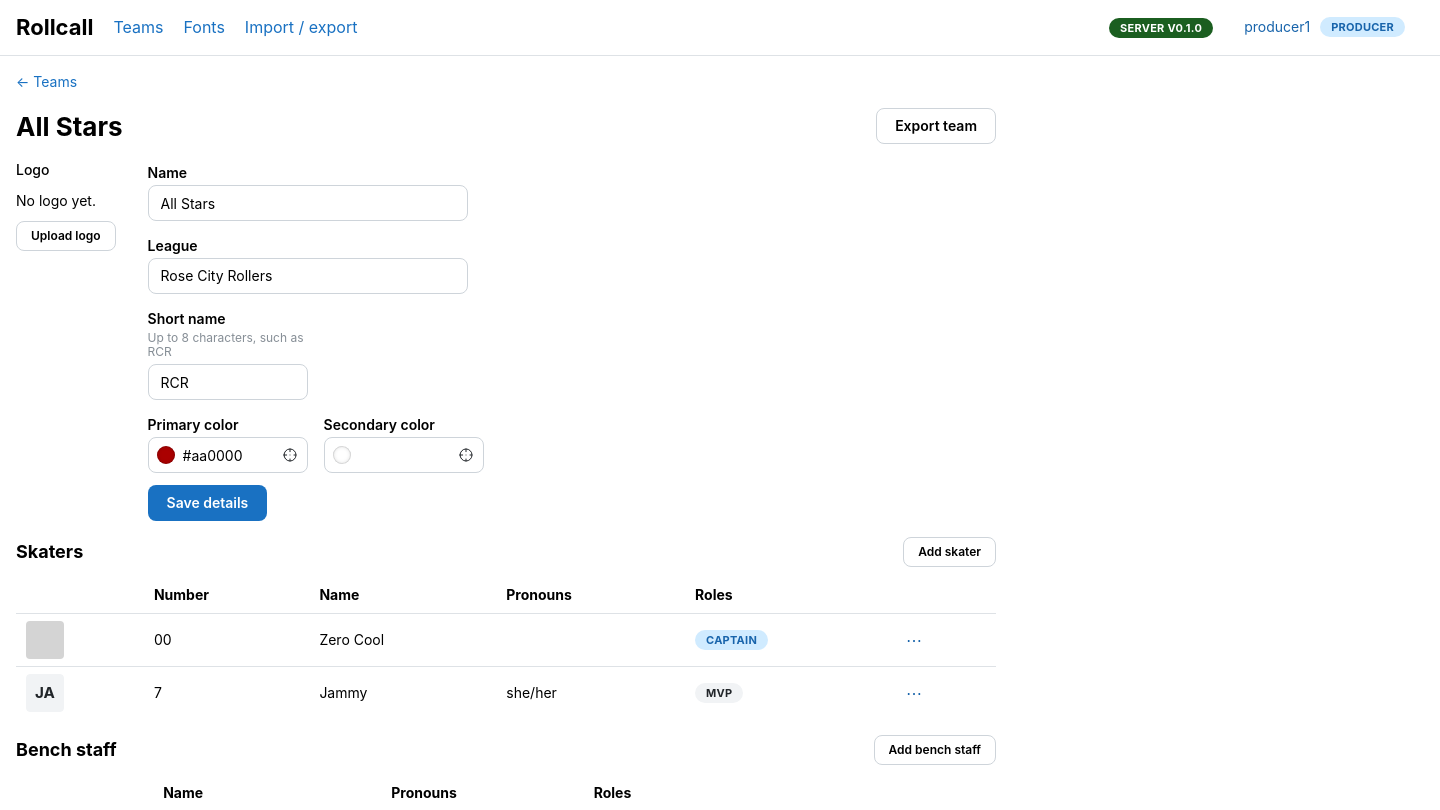
Test case: the Team page › asks for a skater’s number before sending anything
Expected: the heading "All Stars" is shown, x1=16 y1=109 x2=123 y2=144
Click the button "Add skater" at (950, 552), box x1=903 y1=537 x2=996 y2=567
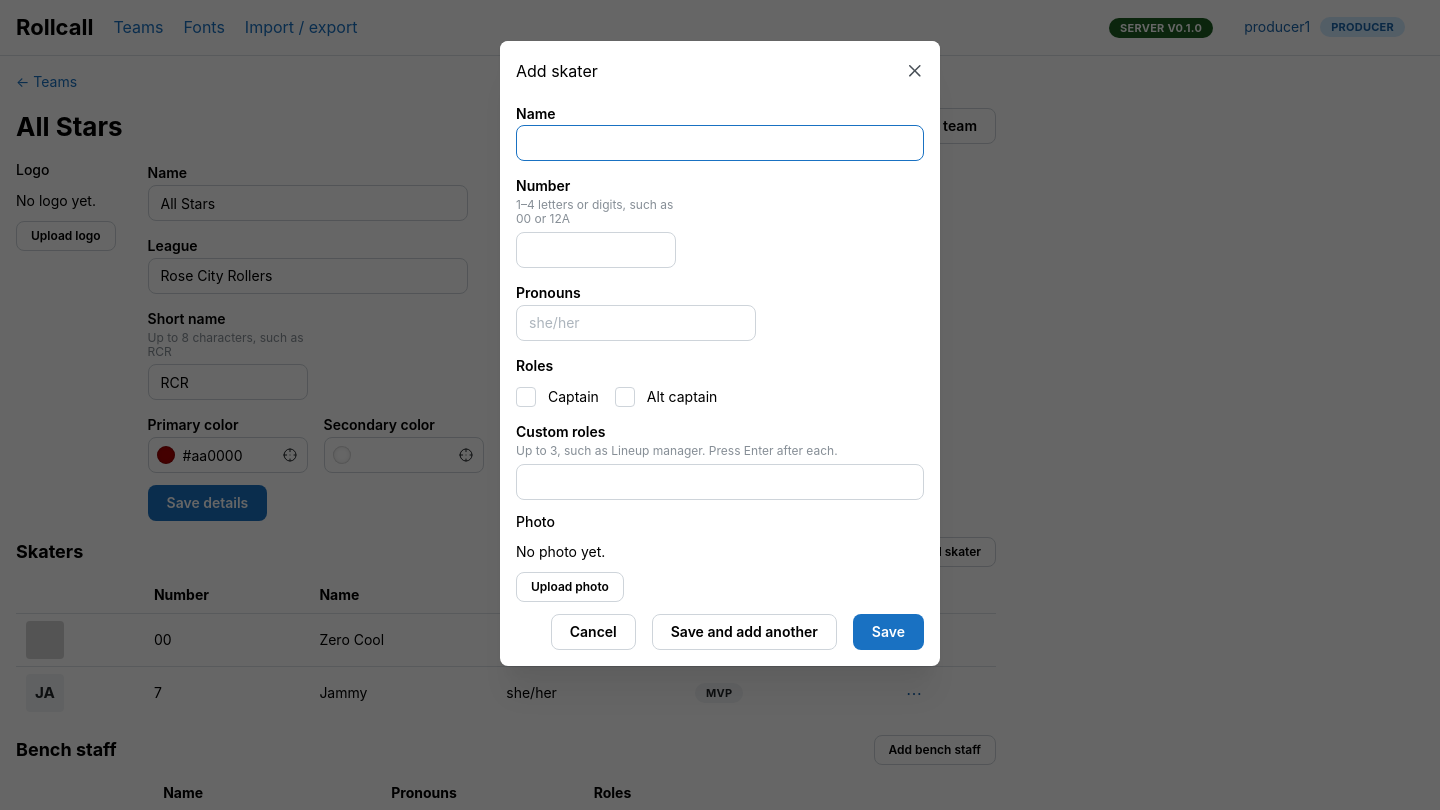
Type "Blocky" into the field labelled "Name" at (720, 143), box x1=516 y1=125 x2=924 y2=161
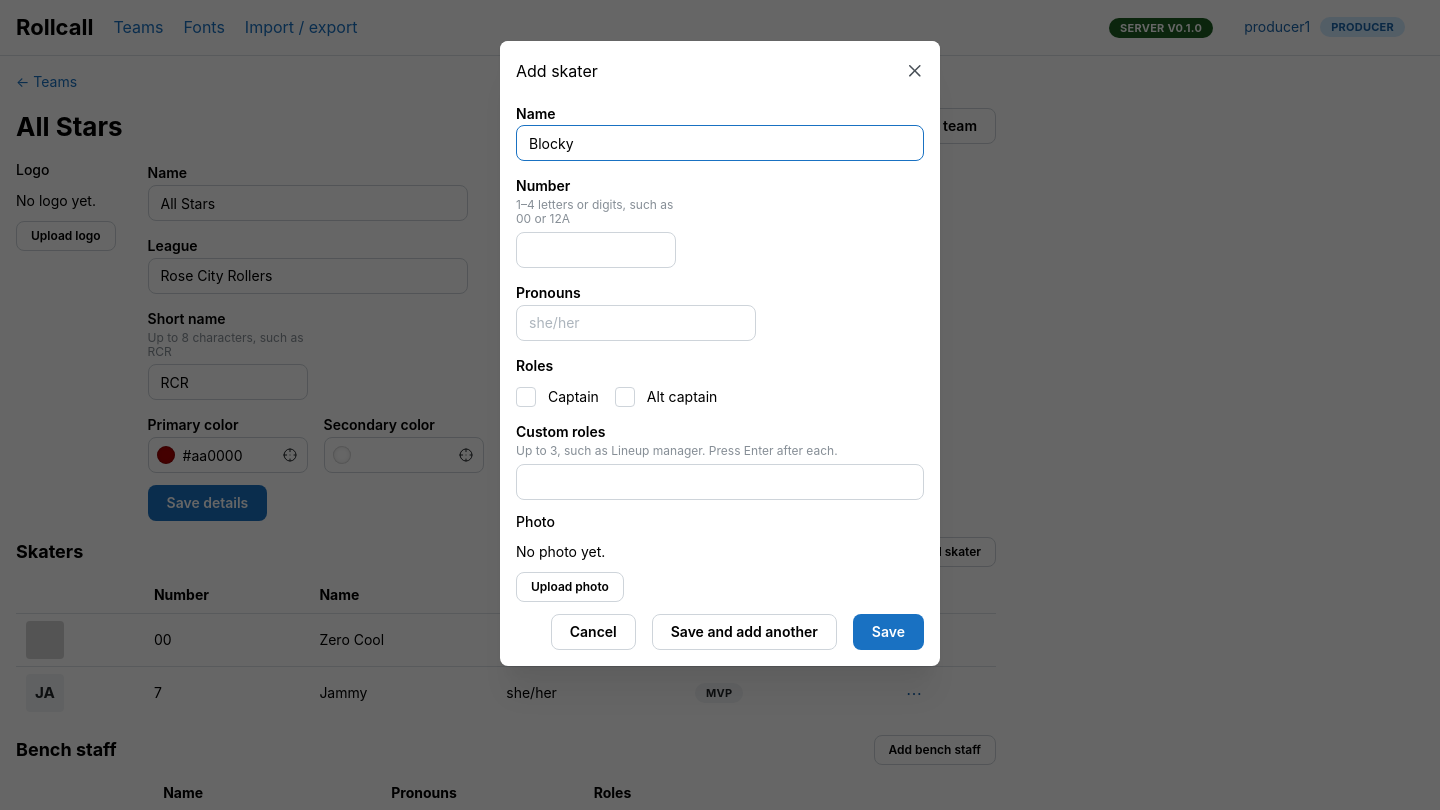
Click the button "Save" at (888, 632), box x1=853 y1=614 x2=924 y2=650
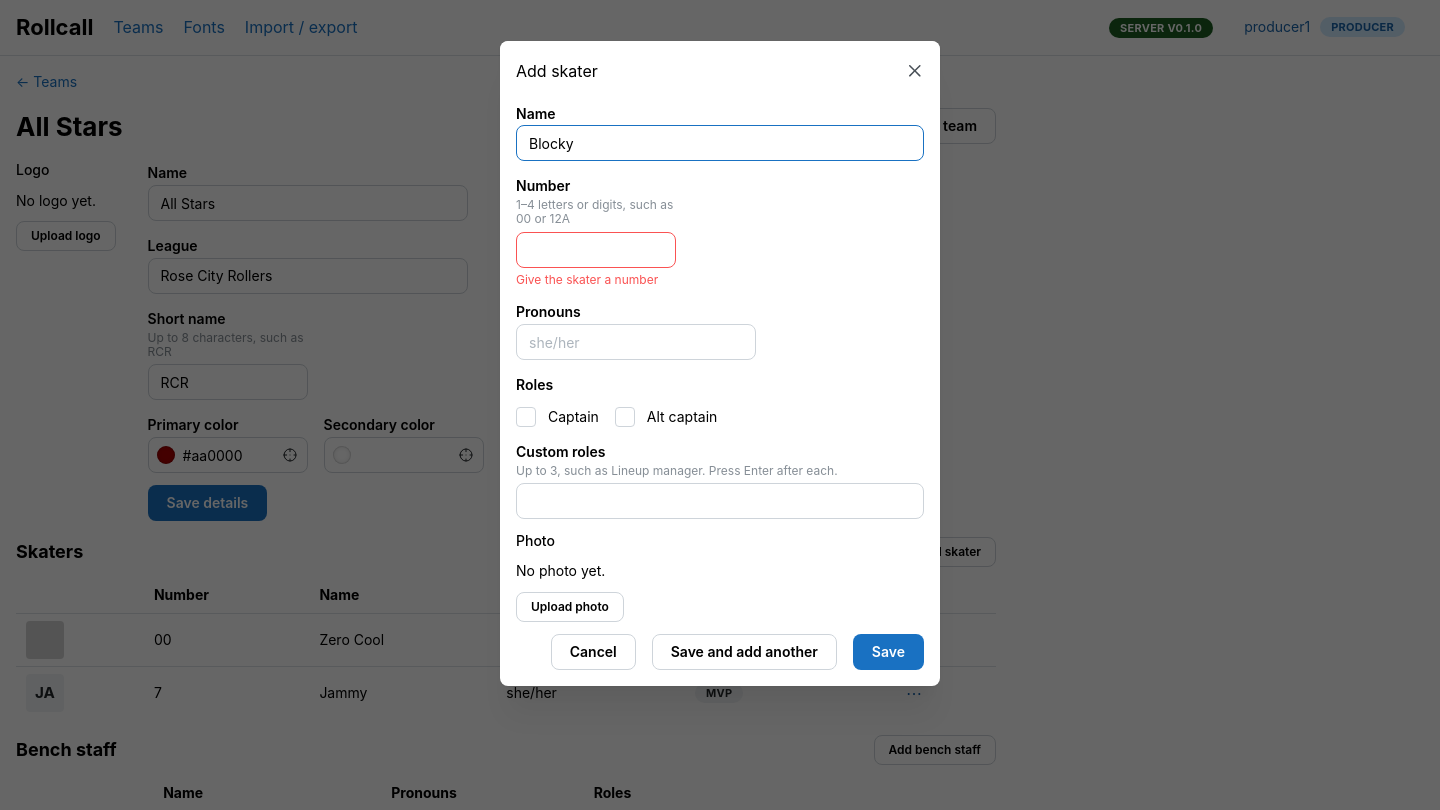
Expected: the text "Give the skater a number" is shown, x1=516 y1=273 x2=676 y2=287
